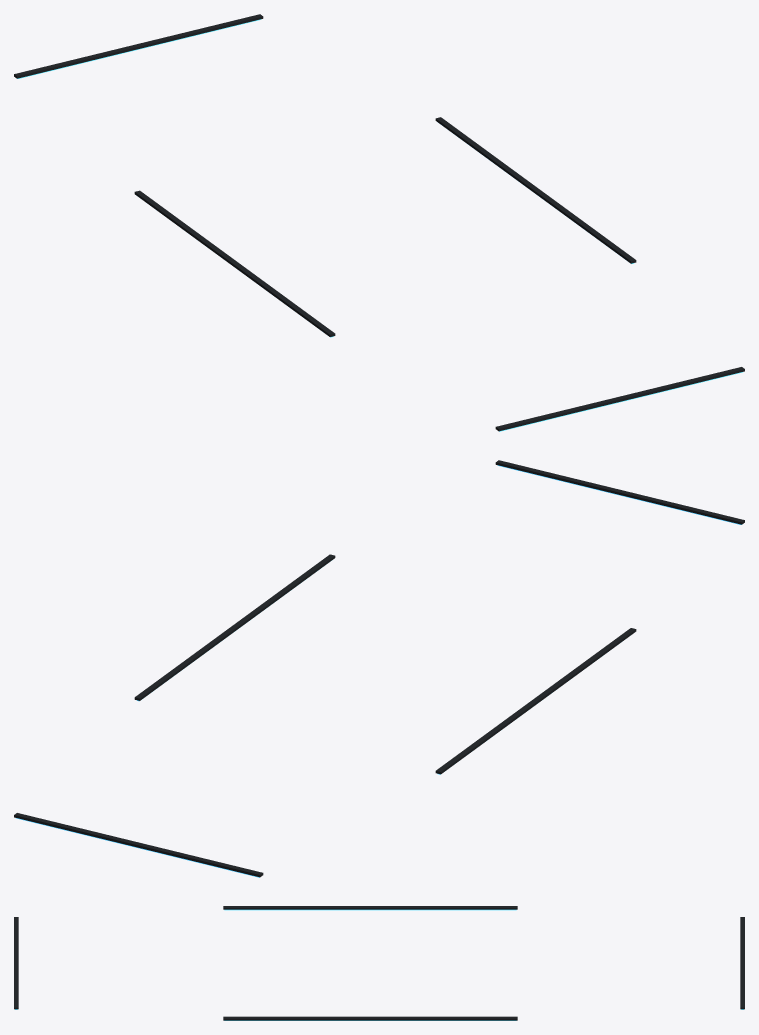
File: ridgeback_4x4.glb
3 renders of one model, top to bottom at view 1: azimuth 30°, elevation 25°; view 2: azimuth 150°, elevation 25°; view 3: azimuth 270°, elevation 25°, orthographic. The views are drawn at different scales.
Parts seen in each view (by area): view 1: model; view 2: model; view 3: model.
Part boxes in pixels (x1,y1,x2,y2): model: (14,14,744,431); model: (14,460,744,877); model: (14,906,744,1020).
Size of the model in its own units: 1.61 by 0.0178 by 4.41.
2 materials, 1 textured.
